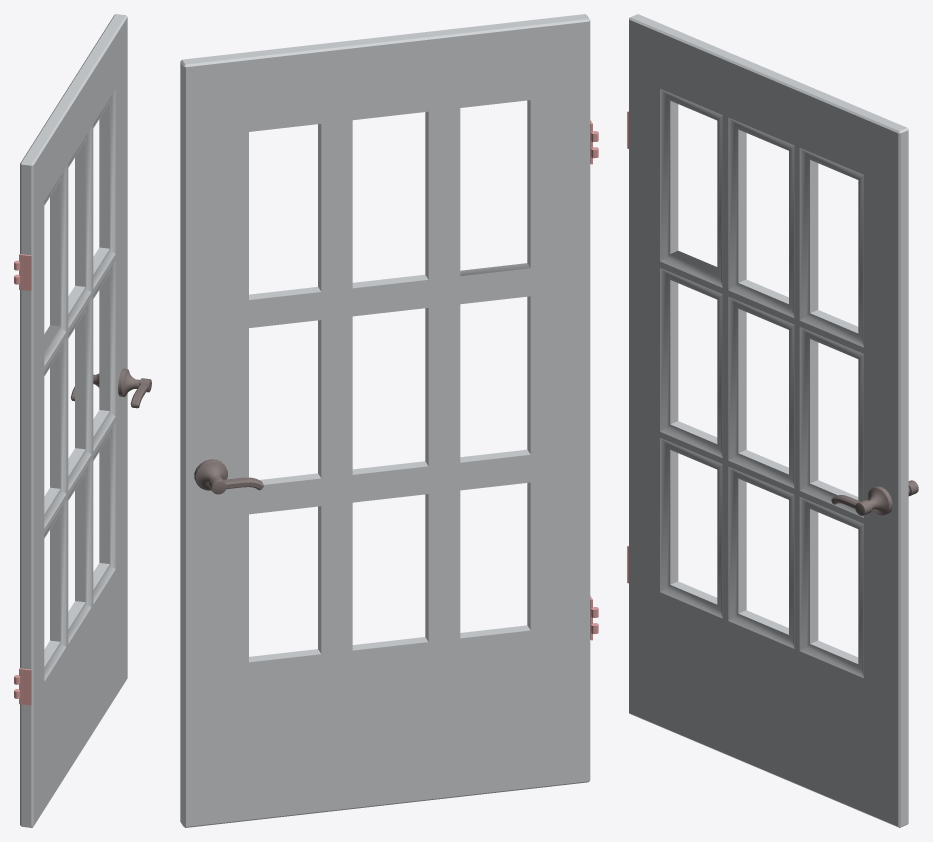
Rendered from livingRoomDoor.gltf.
The picture shows the model from 3 angles, left to right: view 1: azimuth 30°, elevation 25°; view 2: azimuth 150°, elevation 25°; view 3: azimuth 270°, elevation 25°; orthographic projection. The views are drawn at different scales.
Visible parts, largest first — view 1: livingRoomDoor; view 2: livingRoomDoor; view 3: livingRoomDoor.
Part boxes in pixels (x1,y1,x2,y2): livingRoomDoor: (14, 14, 151, 827); livingRoomDoor: (180, 14, 598, 827); livingRoomDoor: (627, 14, 918, 827).
Size of the model in its own units: 0.9748 by 2.51 by 0.9529.
